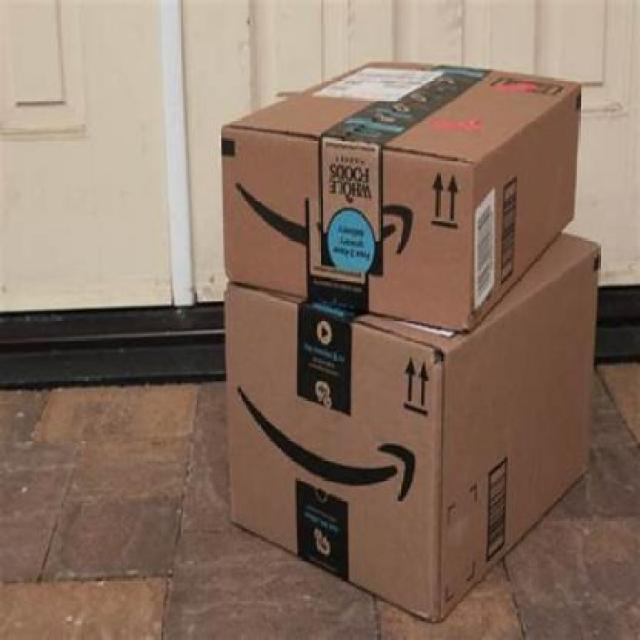cardboxes: (223, 190, 603, 631), (218, 60, 582, 336)
